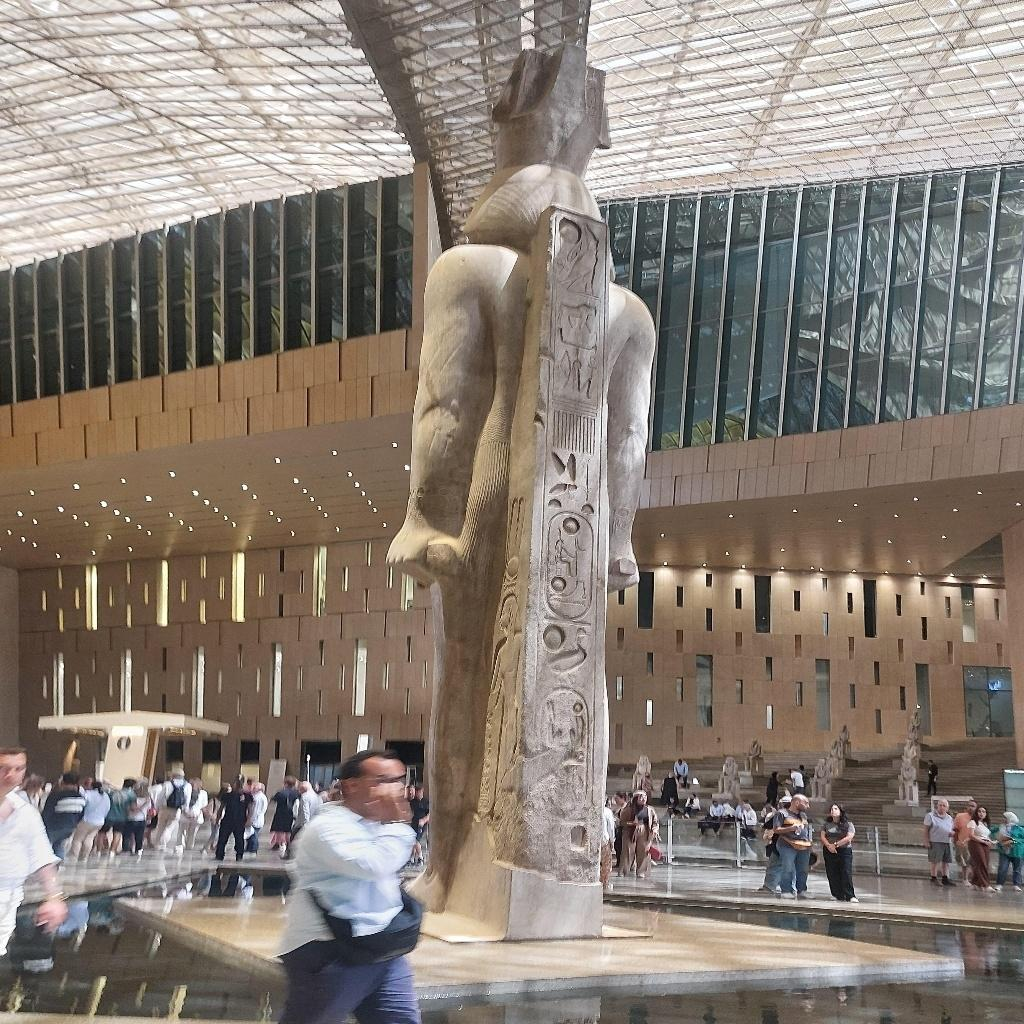Statue of King Ramses II Grand Egyptian Museum: (380, 40, 666, 944)
